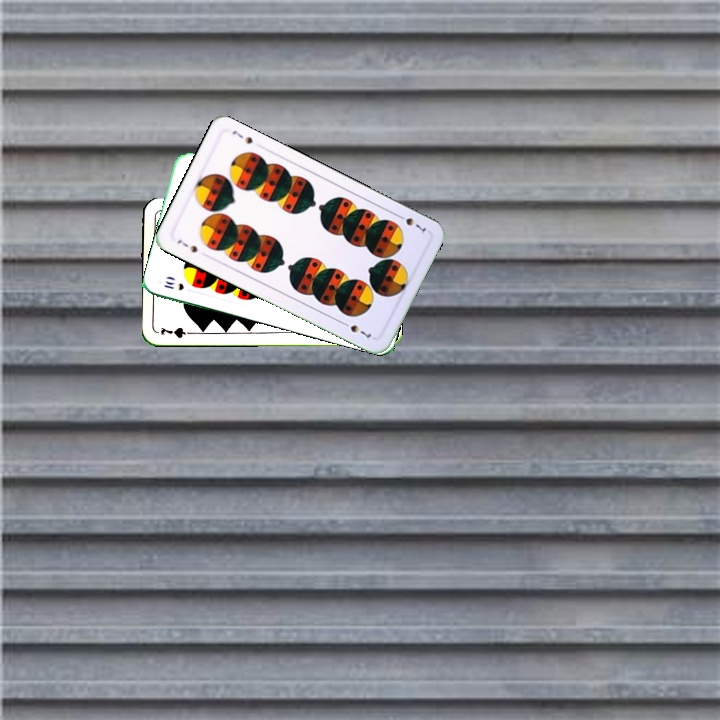G7: (157, 323, 197, 341)
S10: (160, 277, 187, 293)
S7: (393, 210, 429, 234), (173, 235, 200, 255)
